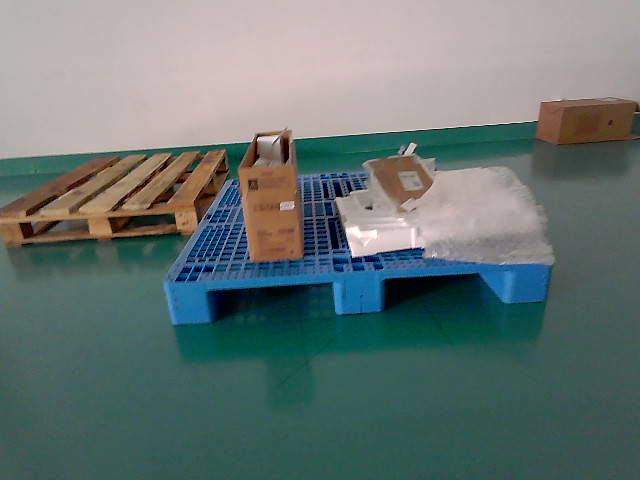block: (167, 279, 212, 324), (337, 270, 382, 315), (505, 264, 552, 303)
front: (169, 262, 553, 325)
hole pallet: (208, 281, 335, 323), (383, 272, 508, 313)
